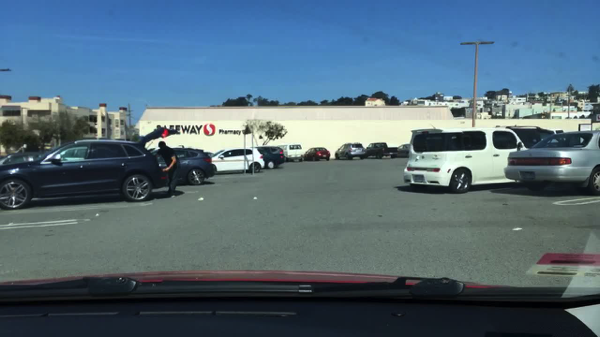bus: (408, 125, 563, 163)
car: (0, 129, 181, 211), (404, 128, 531, 193), (502, 130, 599, 195), (151, 147, 215, 186), (209, 148, 265, 172), (251, 146, 283, 171), (1, 152, 48, 167), (335, 144, 365, 161), (284, 144, 304, 163), (305, 148, 332, 162), (391, 144, 411, 157), (203, 152, 213, 161)
person: (155, 141, 179, 195)
truck: (364, 141, 398, 160)
